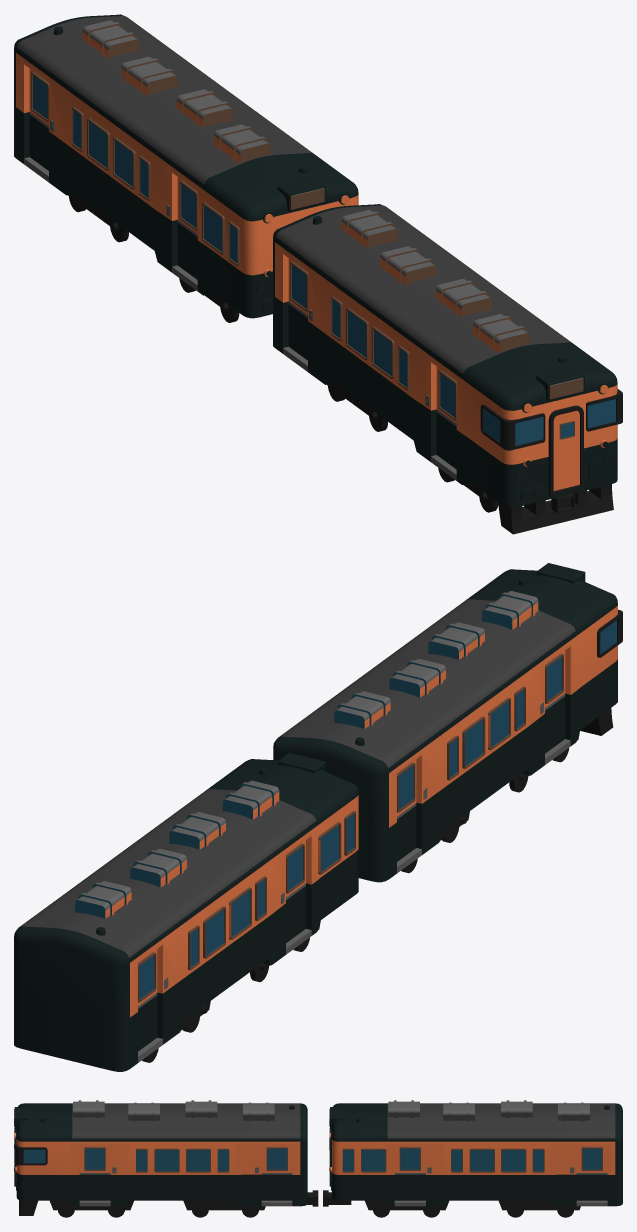
The model's file is train2.FBX.
The picture shows the model from 3 angles, top to bottom: view 1: azimuth 30°, elevation 25°; view 2: azimuth 150°, elevation 25°; view 3: azimuth 270°, elevation 25°; orthographic projection. The views are drawn at different scales.
Parts seen in each view (by area): view 1: Object002; view 2: Object002; view 3: Object002.
Part boxes in pixels (x1=…): Object002: x1=14, y1=14, x2=622, y2=534; Object002: x1=14, y1=563, x2=622, y2=1071; Object002: x1=14, y1=1100, x2=622, y2=1217.
Bounding box in the file's own units: 41.11 × 54.76 × 301.
